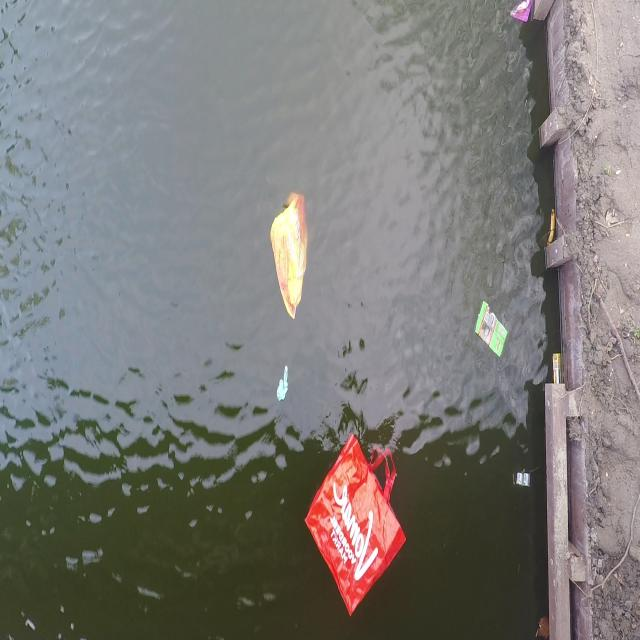Autre plastique: (468, 298, 512, 364)
Sac plastique: (299, 425, 413, 625), (268, 183, 314, 326)
